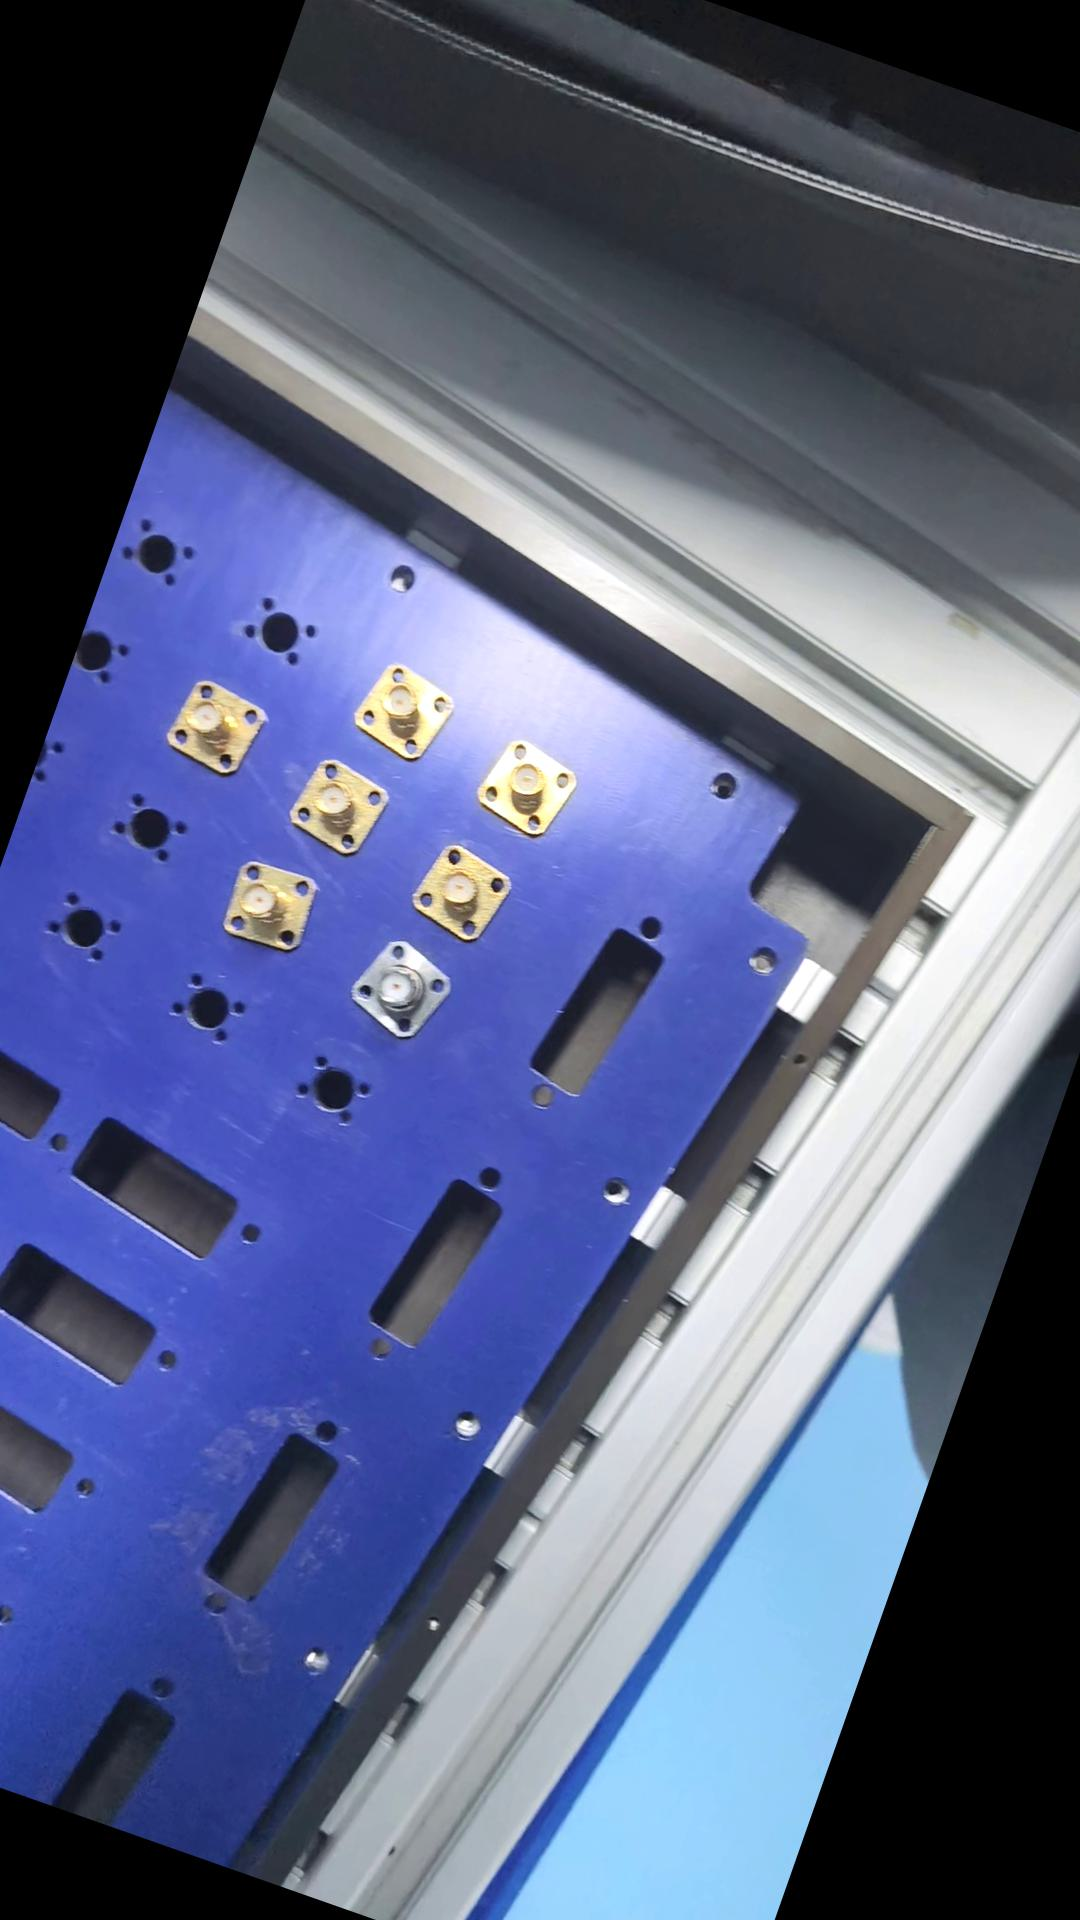SMA: (459, 727, 587, 847), (207, 844, 327, 967), (340, 932, 459, 1050), (276, 746, 393, 862), (400, 837, 520, 951), (343, 653, 458, 767), (158, 673, 272, 781)
